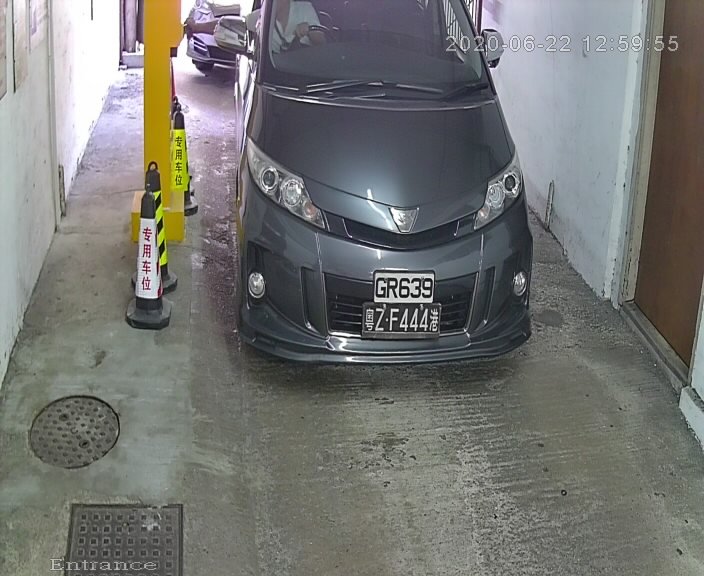privatecar: (204, 1, 545, 383)
